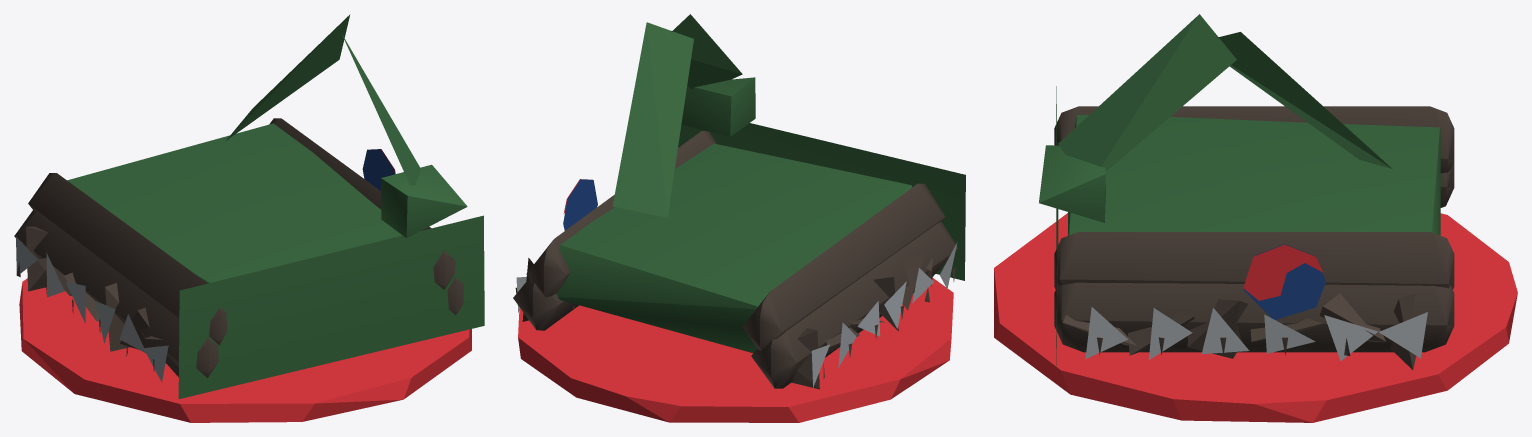
The model's file is south_korea_engineer_lod1.glb.
The picture shows the model from 3 angles, left to right: view 1: azimuth 30°, elevation 25°; view 2: azimuth 150°, elevation 25°; view 3: azimuth 270°, elevation 25°; orthographic projection. The views are drawn at different scales.
Visible parts, largest first — view 1: body_hull, base_pedestal; view 2: body_hull, base_pedestal; view 3: body_hull, base_pedestal.
Part boxes in pixels (x1,y1,x2,y2): body_hull: (14, 14, 484, 398); base_pedestal: (19, 278, 471, 422); body_hull: (513, 14, 965, 389); base_pedestal: (518, 278, 953, 422); body_hull: (1039, 14, 1454, 369); base_pedestal: (994, 213, 1517, 422).
Size of the model in its own units: 0.7751 by 0.553 by 0.7751.
